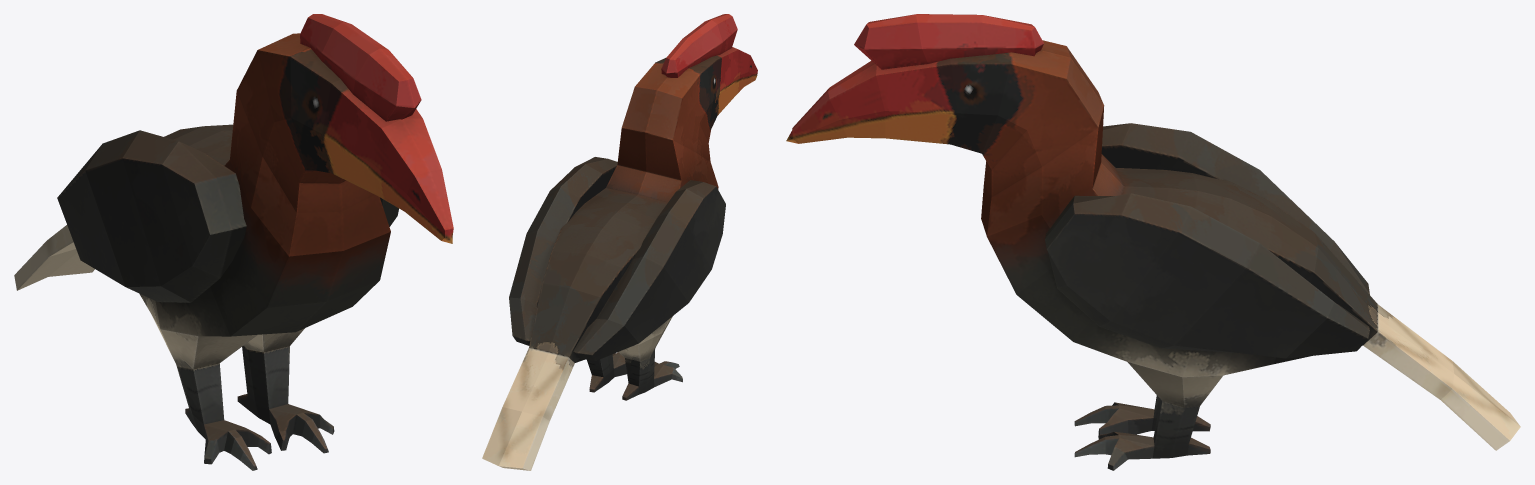
The model's file is SuluHornbill.fbx.
3 views of the same model, side by side, from view 1: azimuth 30°, elevation 25°; view 2: azimuth 150°, elevation 25°; view 3: azimuth 270°, elevation 25° (orthographic). The views are drawn at different scales.
Visible parts, largest first — view 1: SuluHornbill; view 2: SuluHornbill; view 3: SuluHornbill.
Boxes of the visible parts, box(x1,y1,x2,y2) form: SuluHornbill: box(14, 14, 453, 470); SuluHornbill: box(482, 14, 757, 470); SuluHornbill: box(786, 14, 1520, 470).
Bounding box in the file's own units: 46.26 × 96.81 × 150.
